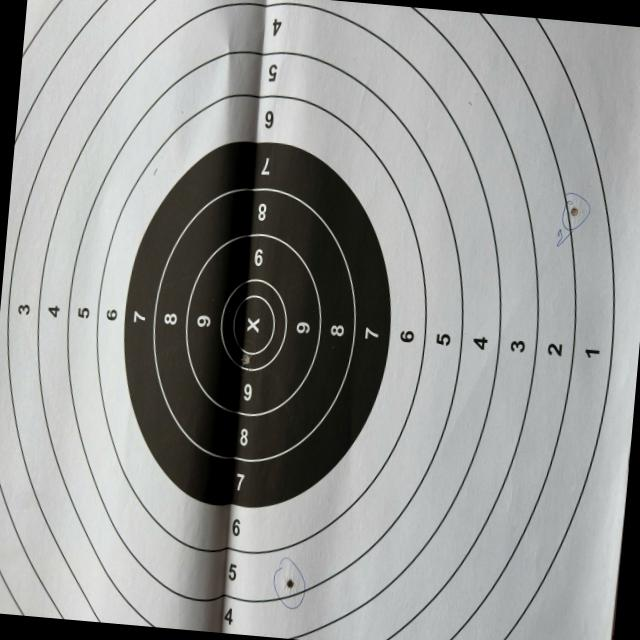bullet: (566, 202, 582, 218), (285, 578, 293, 590), (240, 354, 248, 365)
target: (0, 0, 640, 640)
